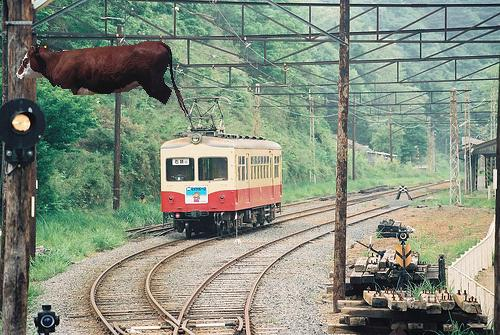tampered: (16, 41, 189, 117)
